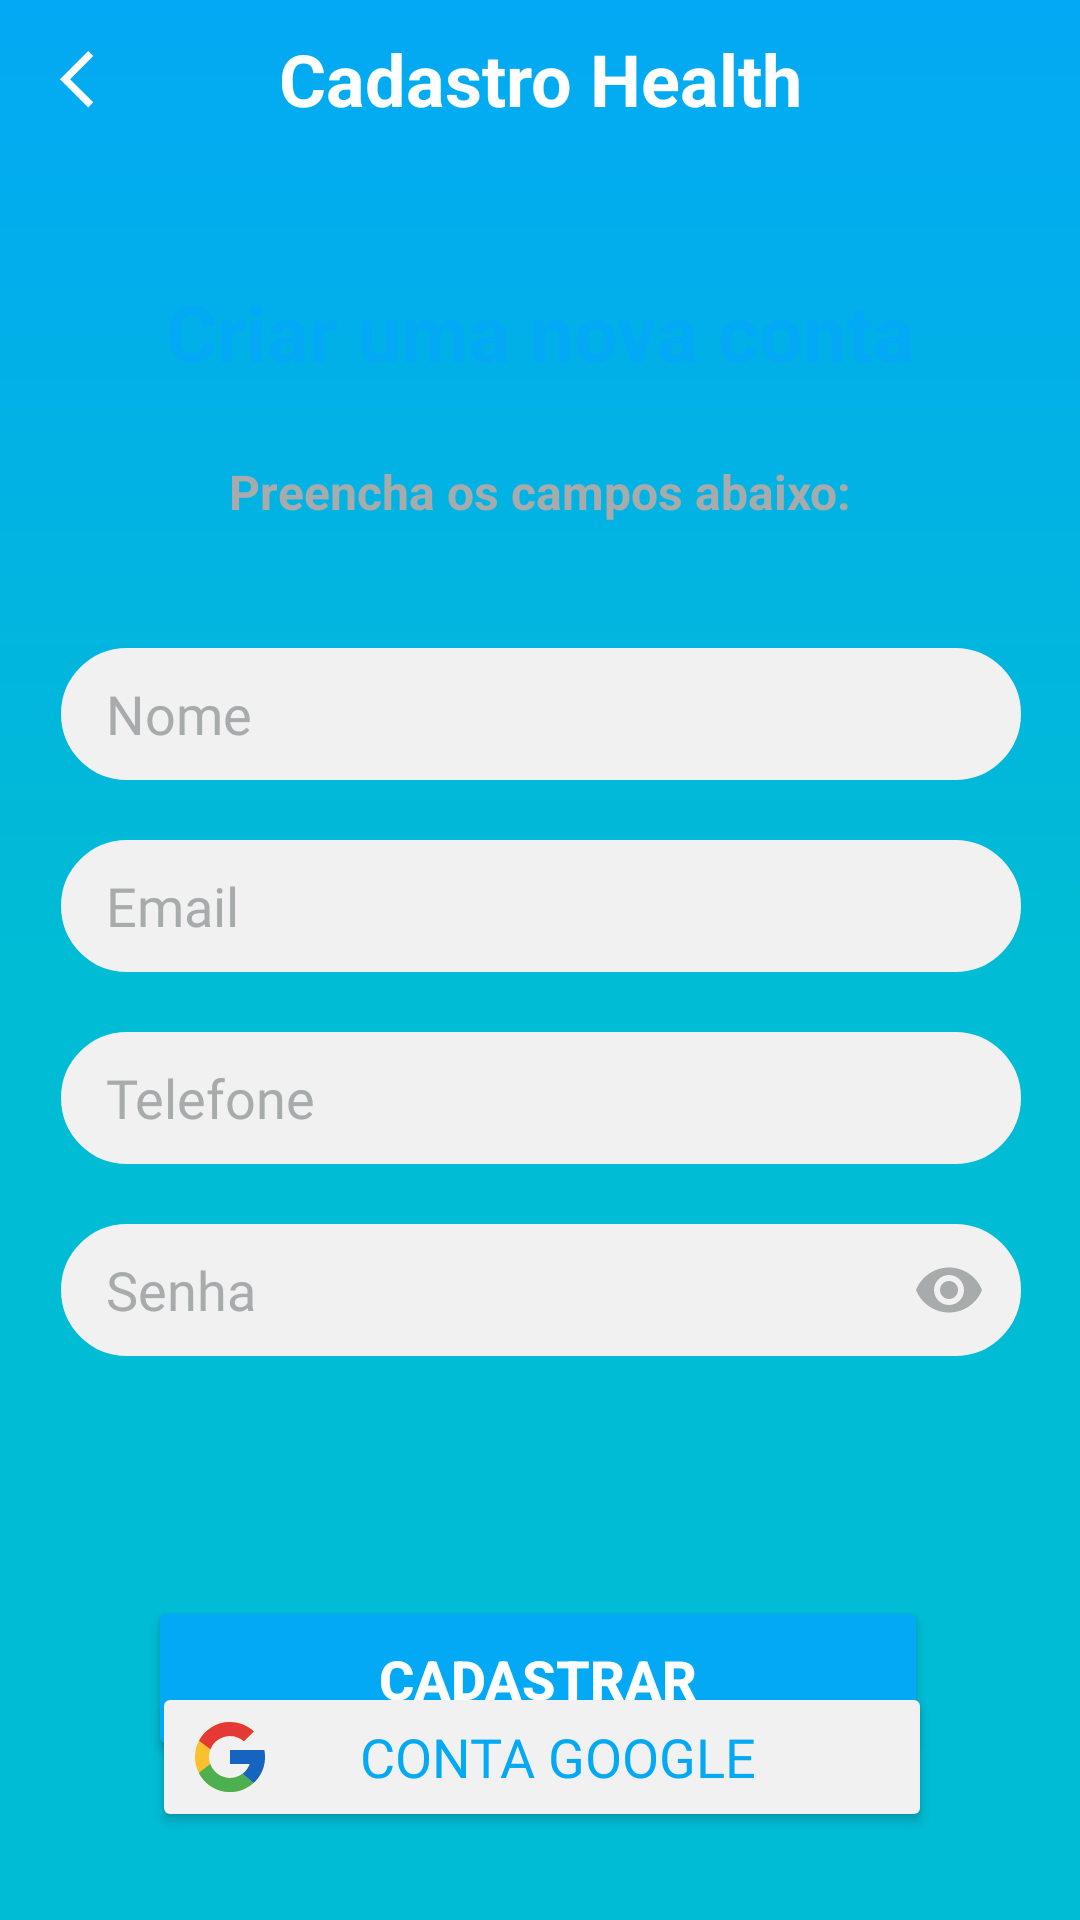

Where icons sit on this 1080×1920 app screen, as bbox=(x1, y1, x2, y2):
arrow left: bbox=(60, 51, 93, 108)
